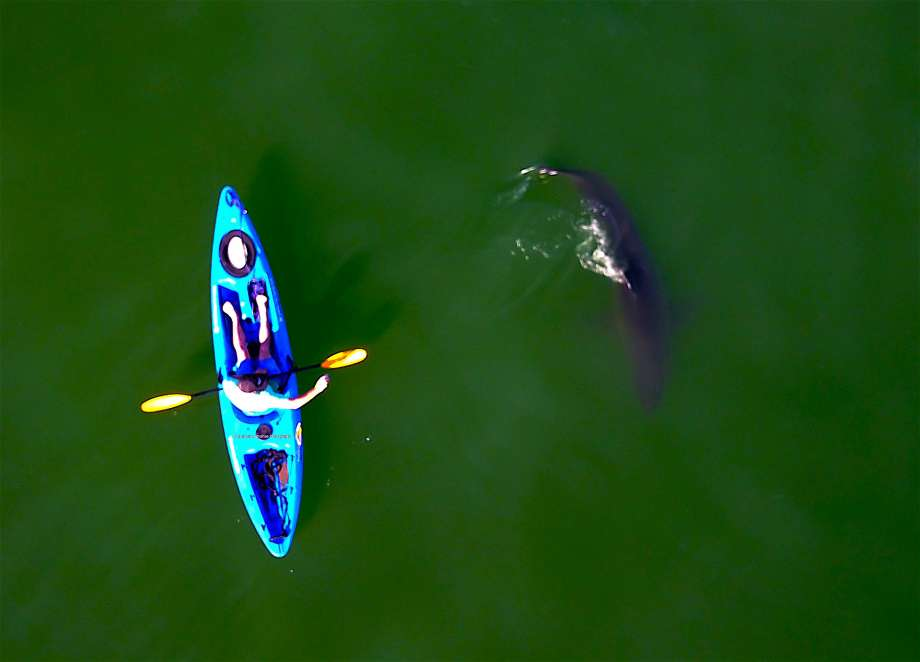kayaker: (132, 176, 374, 564)
shark: (506, 150, 712, 423)
